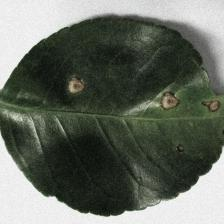canker: (50, 51, 224, 139)
